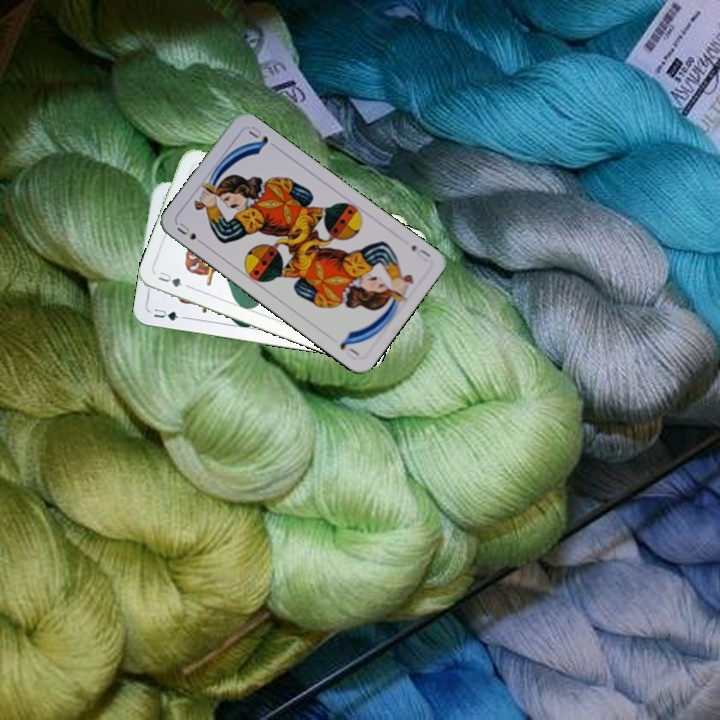GU: (150, 305, 188, 323), (154, 268, 185, 290)
SU: (173, 218, 208, 248), (407, 241, 434, 265)
